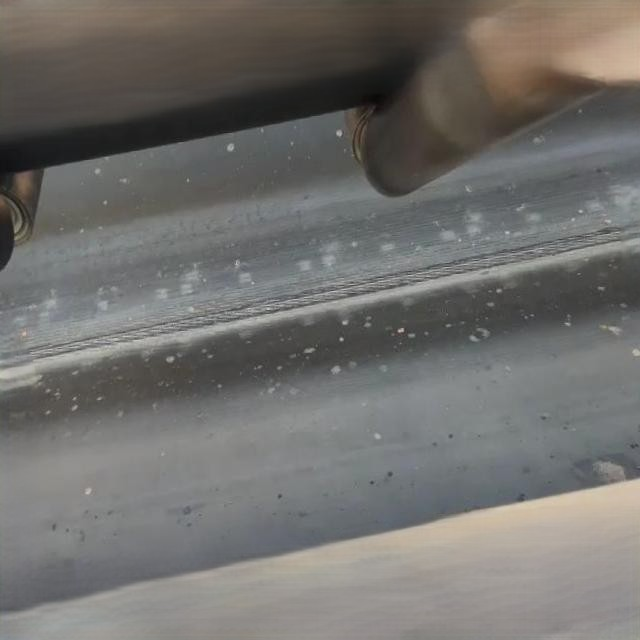Wear: (2, 220, 640, 373)
